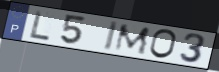3: (179, 33, 209, 65)
5: (60, 13, 88, 47)
I: (102, 20, 120, 53)
L: (29, 9, 52, 42)
M: (112, 23, 152, 56)
O: (148, 28, 178, 61)
